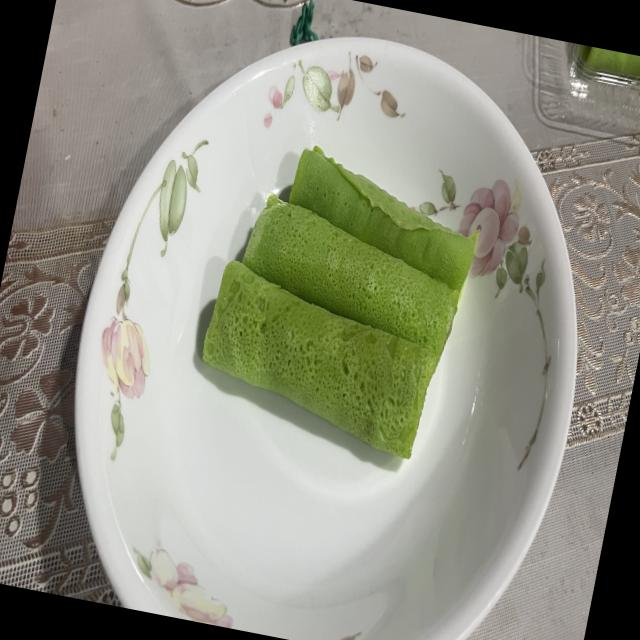Kuih-Ketayap: (202, 260, 438, 459), (242, 195, 460, 357), (289, 147, 477, 291)
